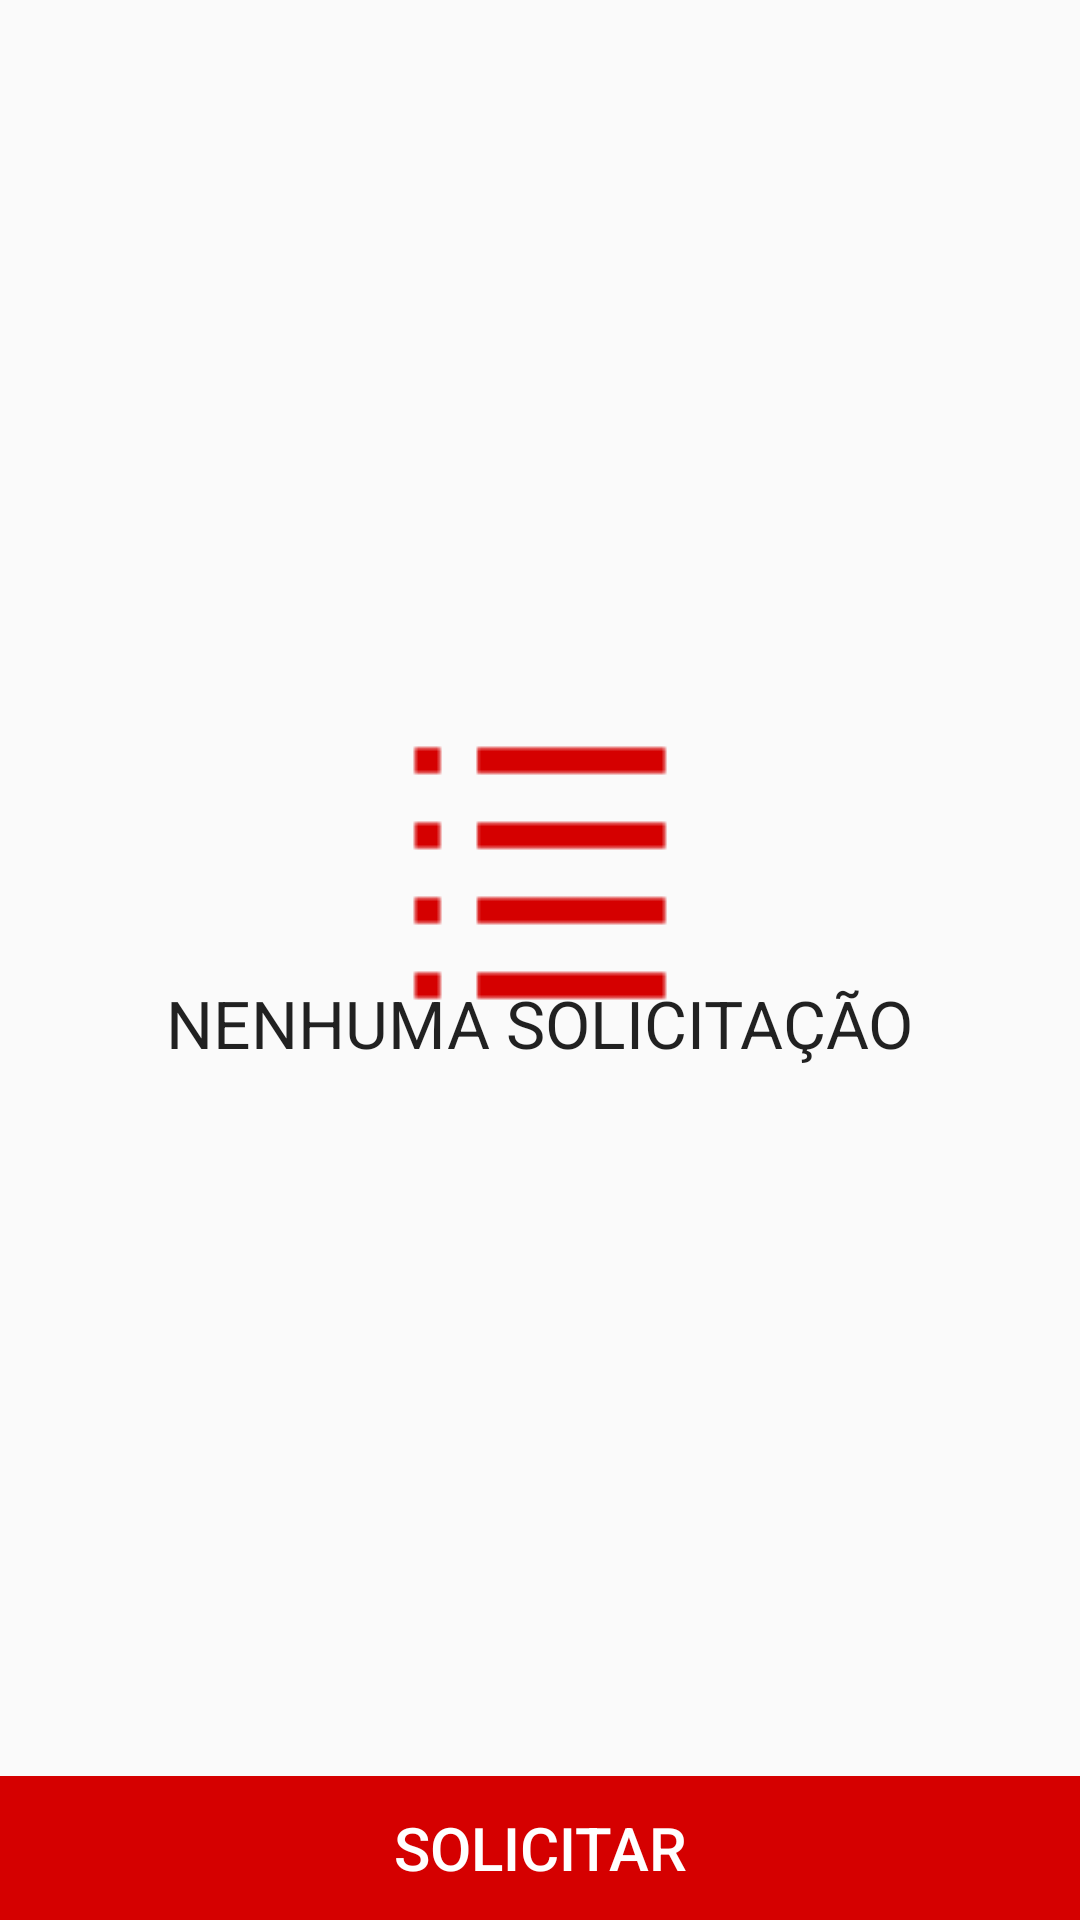

Named icons in this screenshot (1080x1920) and their bounding boxes, (x1, y1, x2, y2):
list: (413, 746, 667, 1000)
